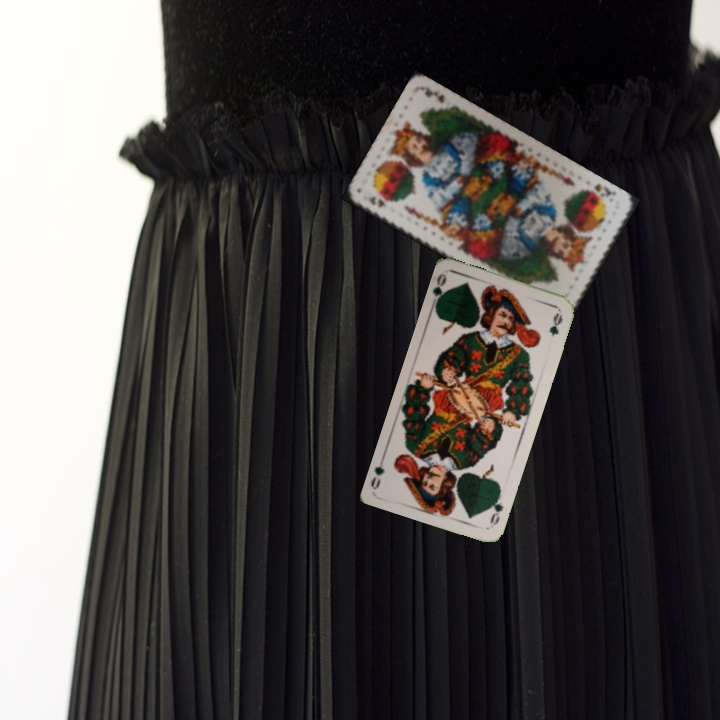GO: (427, 270, 451, 311), (486, 488, 506, 528)
SK: (581, 179, 618, 202), (365, 192, 389, 210)
